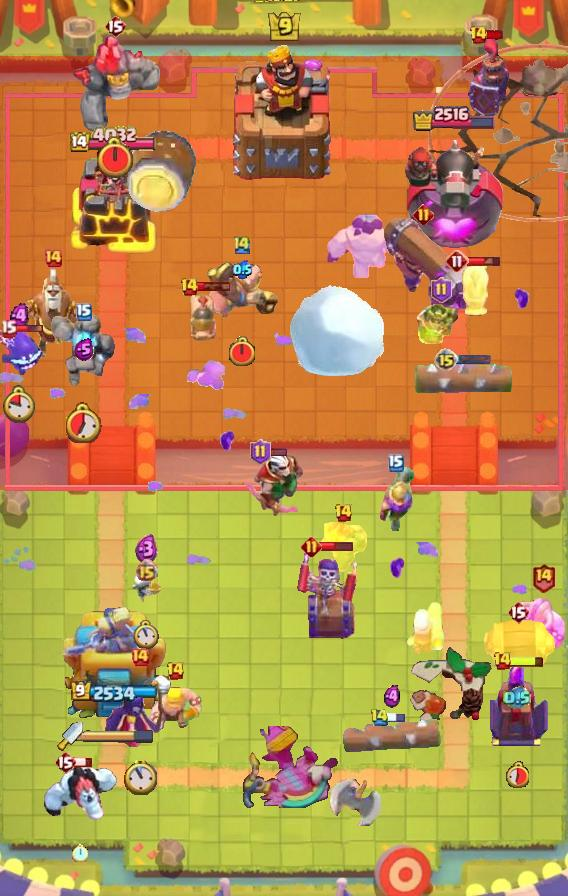archer: (148, 686, 202, 734)
axe: (102, 670, 178, 750)
bar: (60, 607, 168, 731)
bomb-tower: (376, 467, 416, 531)
bomber-evolution: (417, 304, 465, 348)
cannoneer-tower: (68, 34, 162, 134)
dirt: (122, 129, 198, 213)
electro-spirit: (134, 534, 157, 565), (503, 686, 531, 710), (10, 303, 29, 329), (74, 338, 94, 362), (384, 685, 400, 708), (232, 260, 251, 279)
elixir: (95, 136, 135, 180), (66, 401, 102, 442), (3, 385, 36, 423), (123, 759, 157, 795), (227, 336, 257, 368), (133, 620, 159, 650), (505, 760, 529, 787), (72, 844, 88, 862)
elixir-collector: (25, 267, 81, 363)
elixir-golem-big: (465, 38, 521, 120)
emote: (509, 655, 545, 668), (467, 255, 502, 267), (318, 540, 353, 552), (456, 355, 492, 366), (197, 280, 232, 291), (10, 324, 44, 334), (386, 711, 406, 723), (73, 756, 93, 768), (486, 29, 505, 41), (269, 447, 288, 457)
executioner: (459, 260, 491, 320), (188, 289, 220, 347)
freeze: (204, 260, 280, 322)
furnace: (381, 213, 487, 319)
goblin-giant: (512, 596, 568, 652)
guard: (428, 45, 568, 224)
heal-spirit: (131, 573, 161, 603)
ice-spirit-evolution-symbol: (485, 661, 549, 749)
king-tower: (230, 43, 338, 181)
king-tower-bar: (83, 729, 155, 743)
minion: (342, 716, 442, 754), (412, 363, 514, 399)
queen-tower: (69, 154, 159, 256)
rage: (325, 210, 411, 278), (41, 763, 119, 823)
royal-giant: (329, 762, 383, 826)
selected: (69, 126, 158, 154), (412, 104, 497, 132), (70, 680, 158, 703)
skeleton-king: (242, 449, 306, 519)
skeleton-king-bar: (296, 550, 358, 642)
spear-goblin: (0, 330, 42, 376)
text: (532, 562, 557, 593), (445, 249, 469, 273), (434, 348, 458, 372), (431, 277, 453, 303), (249, 439, 270, 465), (134, 559, 157, 582), (104, 14, 126, 38), (507, 600, 529, 624), (54, 750, 76, 774), (302, 535, 323, 557), (414, 203, 435, 224), (232, 233, 252, 254), (43, 248, 63, 268), (180, 277, 200, 297), (130, 647, 150, 667), (468, 25, 487, 45), (335, 503, 354, 523), (493, 651, 512, 671), (166, 661, 185, 681), (370, 708, 390, 727), (0, 318, 16, 337), (76, 303, 92, 321), (388, 454, 404, 472)
the-log: (480, 620, 556, 670)
tombstone: (404, 599, 446, 657)
tower-bar: (401, 132, 508, 256)
valkyrie-evolution: (47, 311, 121, 393), (317, 521, 369, 573)
wall-breaker: (287, 283, 384, 378)
